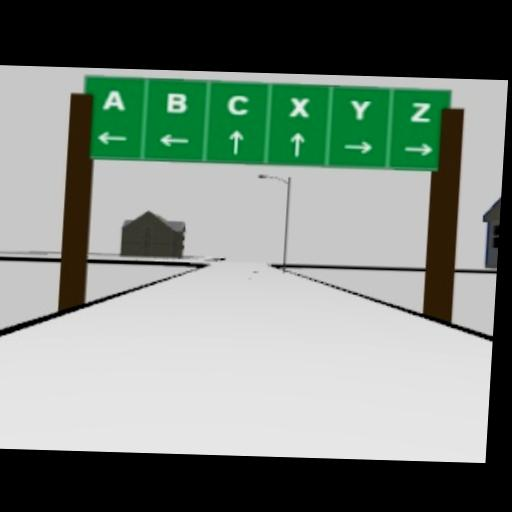A: (101, 87, 126, 110)
B: (165, 91, 188, 112)
C: (226, 93, 249, 114)
Left: (156, 132, 190, 147), (96, 130, 128, 145)
Right: (342, 138, 372, 153), (403, 140, 433, 155)
Straight: (227, 127, 243, 153), (288, 131, 304, 155)
X: (289, 95, 310, 115)
Y: (348, 98, 371, 119)
Z: (410, 100, 431, 121)
